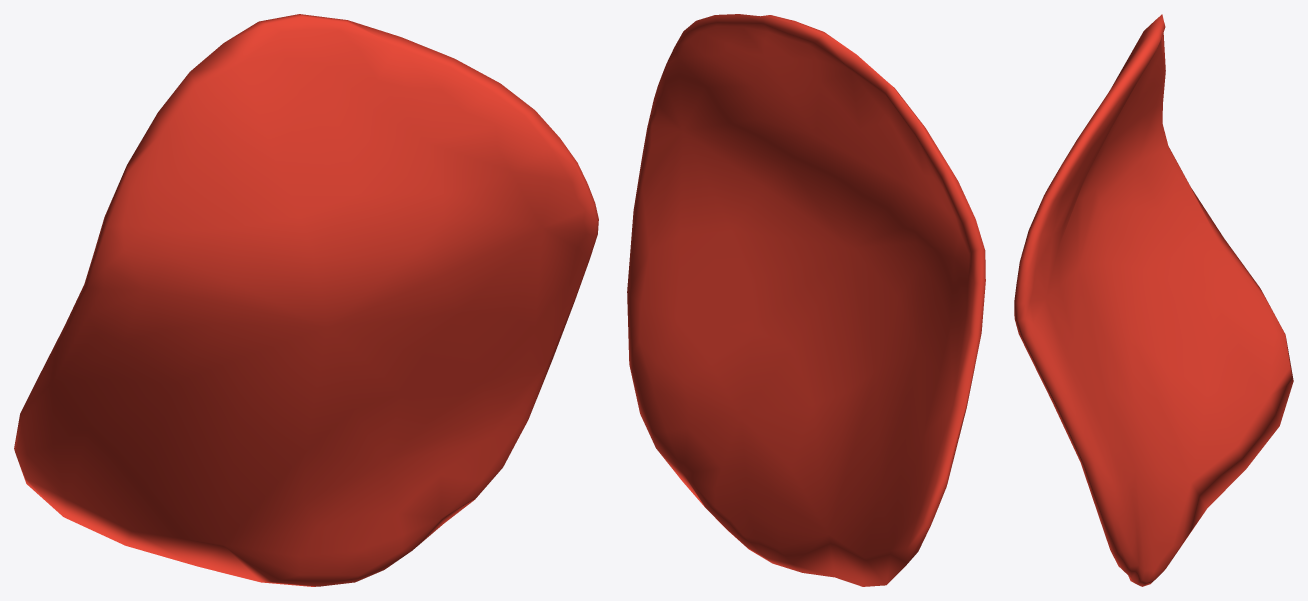
Rendered from Common_flexor_tendon.l_Generated_Mesh_From_X3D.673.glb.
The picture shows the model from 3 angles, left to right: view 1: azimuth 30°, elevation 25°; view 2: azimuth 150°, elevation 25°; view 3: azimuth 270°, elevation 25°; orthographic projection. The views are drawn at different scales.
Parts seen in each view (by area): view 1: Common_flexor_tendon.l_Generated_Mesh_From_X3D.673; view 2: Common_flexor_tendon.l_Generated_Mesh_From_X3D.673; view 3: Common_flexor_tendon.l_Generated_Mesh_From_X3D.673.
Part boxes in pixels (left/top/right/bottom): Common_flexor_tendon.l_Generated_Mesh_From_X3D.673: left=14, top=14, right=598, bottom=586; Common_flexor_tendon.l_Generated_Mesh_From_X3D.673: left=627, top=14, right=985, bottom=586; Common_flexor_tendon.l_Generated_Mesh_From_X3D.673: left=1014, top=14, right=1293, bottom=586.
Size of the model in its own units: 0.013 by 0.0161 by 0.00768.
